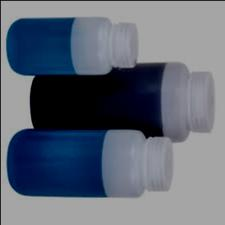Plastic: (5, 128, 175, 200), (5, 13, 140, 77)
